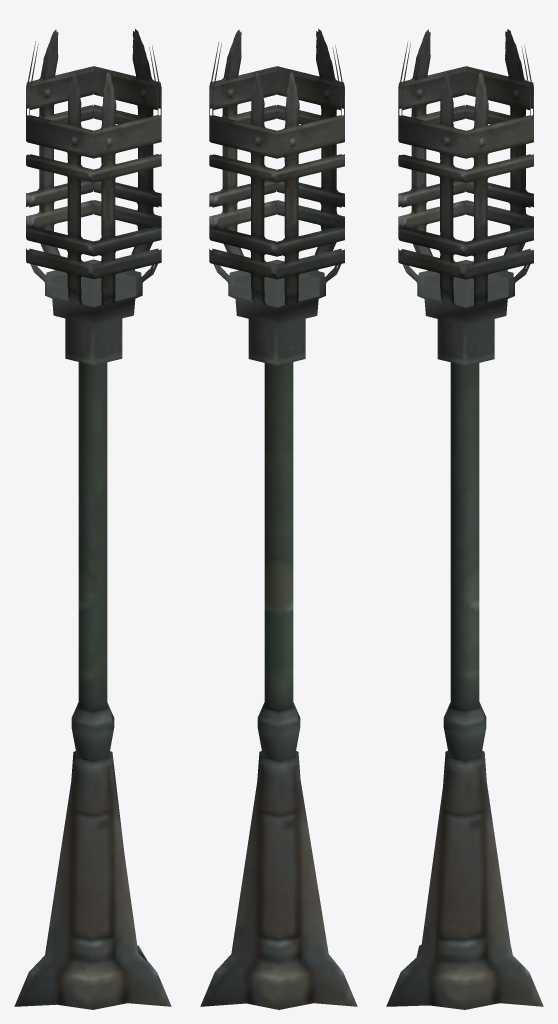
Rendered from 2_YiZhan_ZaWu_HuoJu_01.FBX.
3 views of the same model, side by side, from view 1: azimuth 30°, elevation 25°; view 2: azimuth 150°, elevation 25°; view 3: azimuth 270°, elevation 25° (orthographic).
Parts seen in each view (by area): view 1: 2_YiZhan_ZaWu_HuoJu_01, 2_YiZhan_ZaWu_HuoJu_02; view 2: 2_YiZhan_ZaWu_HuoJu_01, 2_YiZhan_ZaWu_HuoJu_02; view 3: 2_YiZhan_ZaWu_HuoJu_01, 2_YiZhan_ZaWu_HuoJu_02.
Part boxes in pixels (x1,y1,x2,y2): 2_YiZhan_ZaWu_HuoJu_01: (14,362,171,1009); 2_YiZhan_ZaWu_HuoJu_02: (26,29,161,365); 2_YiZhan_ZaWu_HuoJu_01: (200,362,357,1009); 2_YiZhan_ZaWu_HuoJu_02: (209,29,344,365); 2_YiZhan_ZaWu_HuoJu_01: (386,362,543,1009); 2_YiZhan_ZaWu_HuoJu_02: (398,29,533,365).
Size of the model in its own units: 94.88 by 580 by 87.54.
